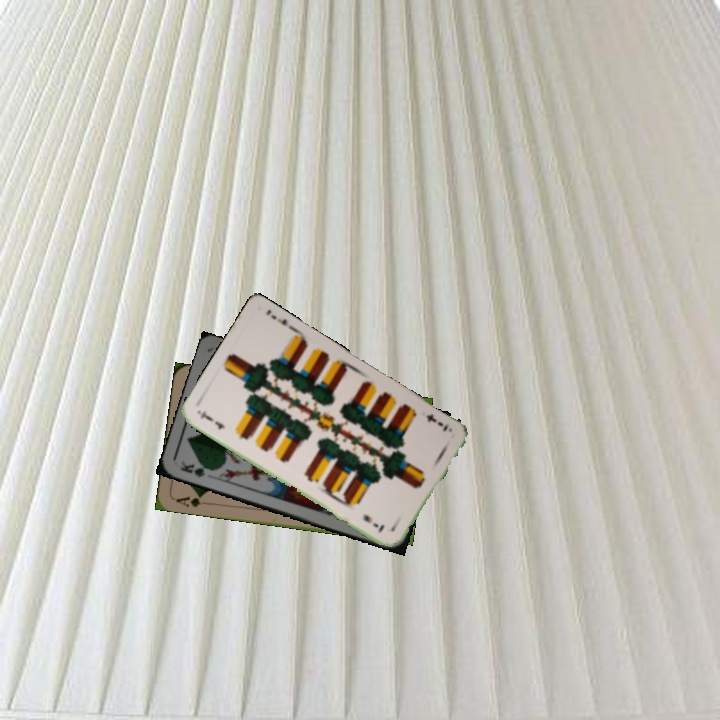E7: (195, 407, 228, 432), (422, 410, 451, 434)
GA: (172, 491, 211, 510)
GK: (177, 456, 215, 481)
